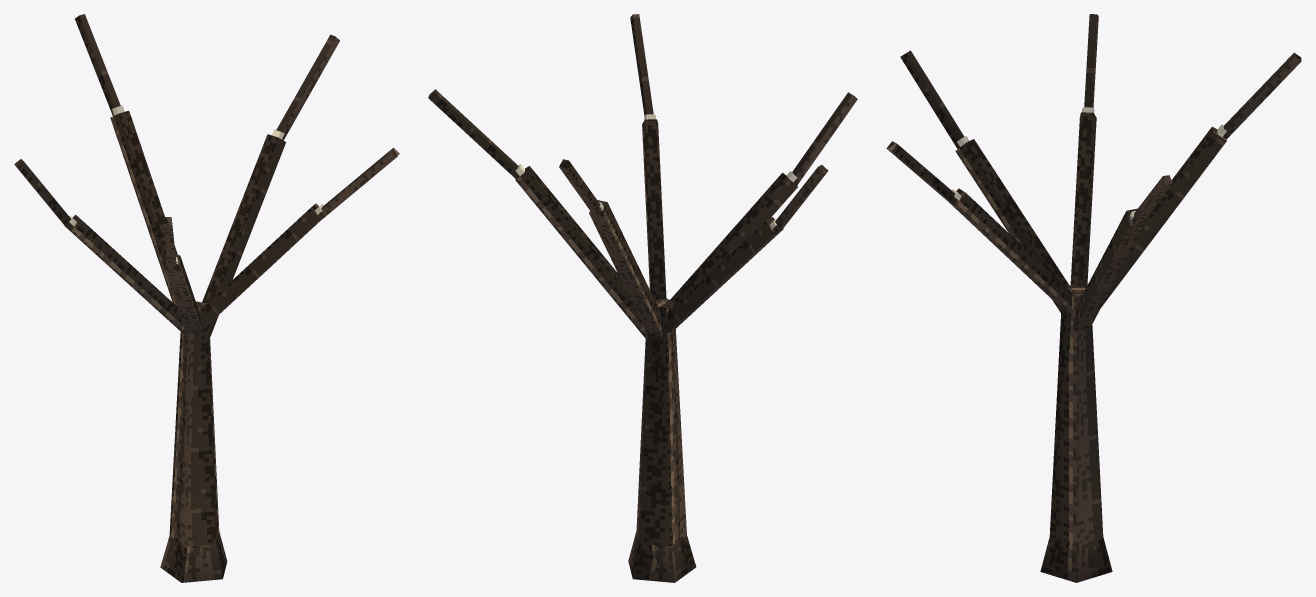
The model's file is mnat.dead_tree__snowy.glb.
The picture shows the model from 3 angles, left to right: view 1: azimuth 30°, elevation 25°; view 2: azimuth 150°, elevation 25°; view 3: azimuth 270°, elevation 25°; orthographic projection. The views are drawn at different scales.
Visible parts, largest first — view 1: kit_trunk; view 2: kit_trunk; view 3: kit_trunk.
Boxes of the visible parts, x1,y1,x2,y2 form: kit_trunk: (14,14,399,582); kit_trunk: (428,14,857,582); kit_trunk: (886,14,1301,582).
Size of the model in its own units: 4.64 by 5.96 by 4.42.
Materials: 2 (2 with a texture image).
